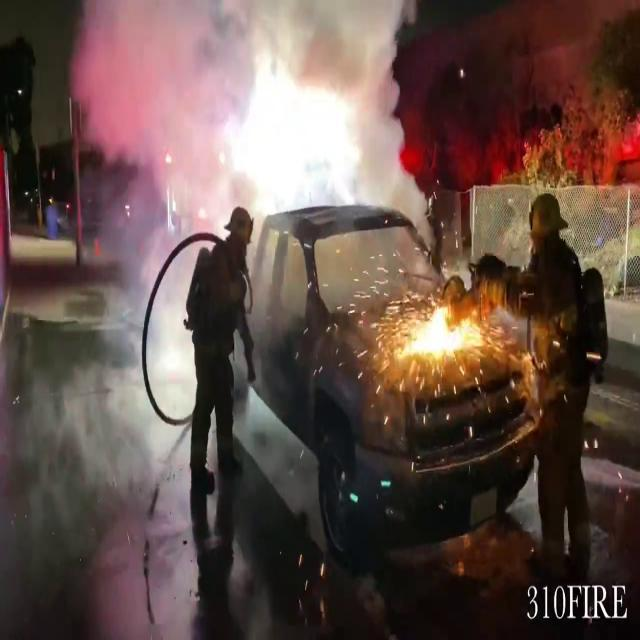Fire: (209, 36, 371, 215), (390, 294, 490, 372)
Smoke: (44, 0, 221, 476)
